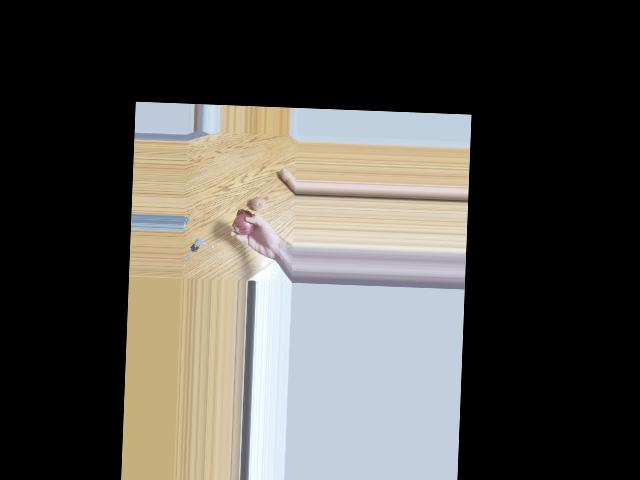onion: (250, 197, 268, 215)
